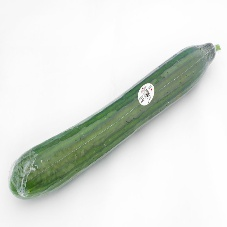cucumber: (8, 42, 221, 200)
